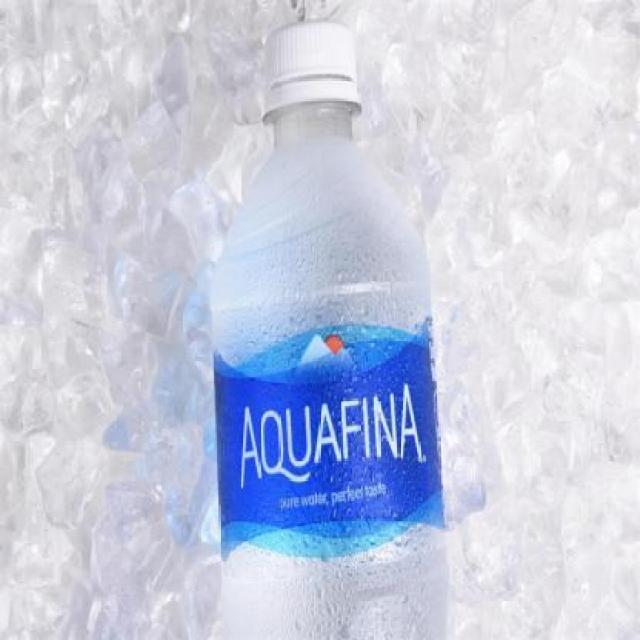bottle: (195, 16, 460, 640)
